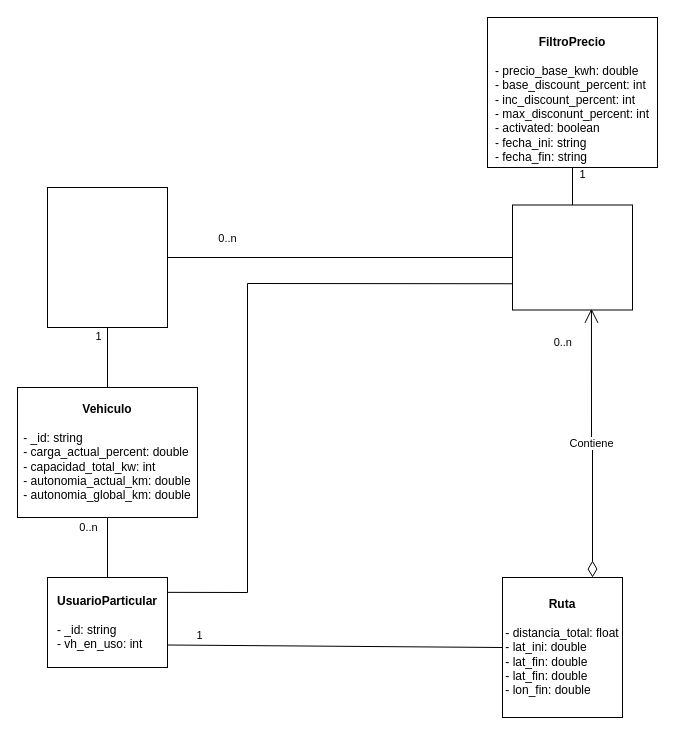
Some shapes in this 675 by 735 pixel diagram are drawn without their labels. The box of each missing label's shape, as (x1, y1, x2, y2) in pixels:
<<enumeration>> TipoConector SCHUKO TIPO 1 TIPO2 CSS CHADEMO CARGA_RAPIDA: (46, 186, 168, 328)
EstacionServicio - _id: string - lat: double - lon: double: (512, 204, 632, 310)
